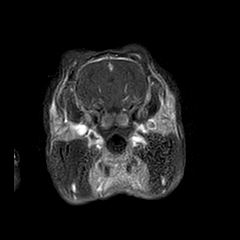Brain: (62, 19, 161, 117)
